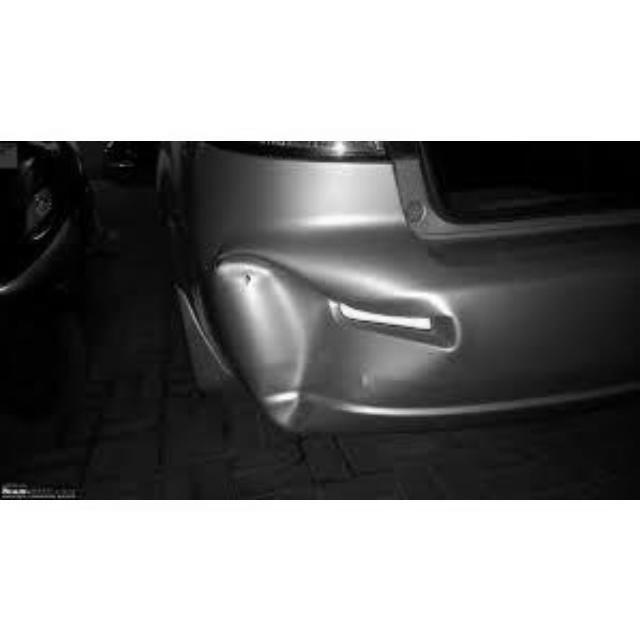rear-bumper-dent: (164, 237, 497, 438)
